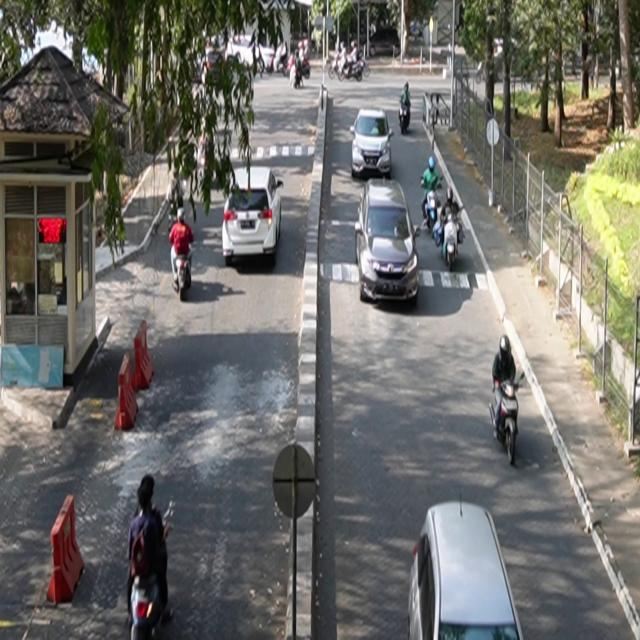car: (408, 496, 525, 640), (355, 178, 422, 305), (223, 166, 285, 267), (351, 109, 395, 180)
